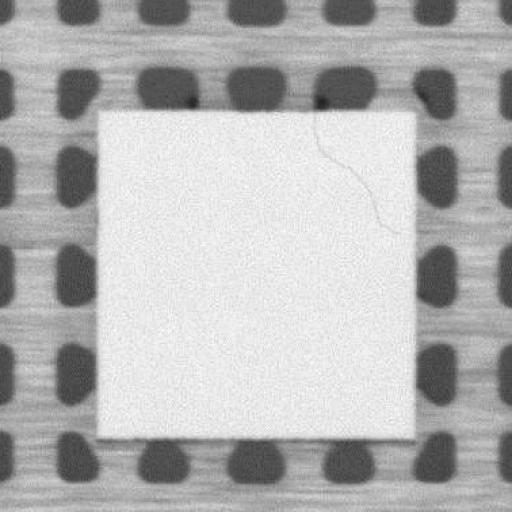DIE_CRACK: (312, 120, 400, 235)
